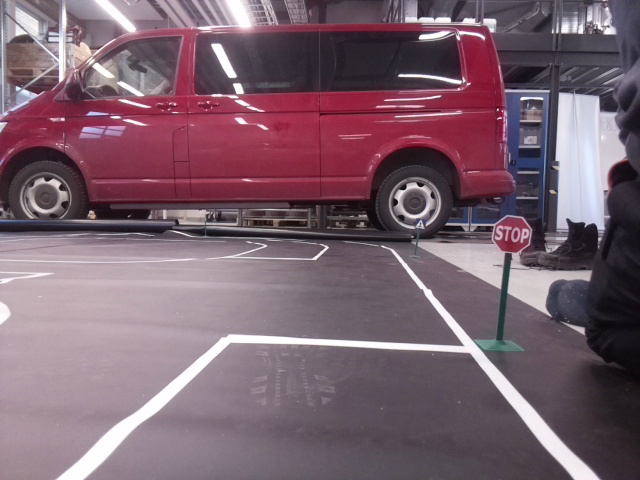Stop: (493, 215, 531, 252)
